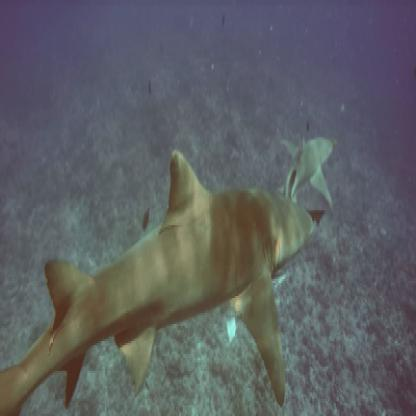shark: (1, 147, 314, 411), (276, 132, 336, 209)
